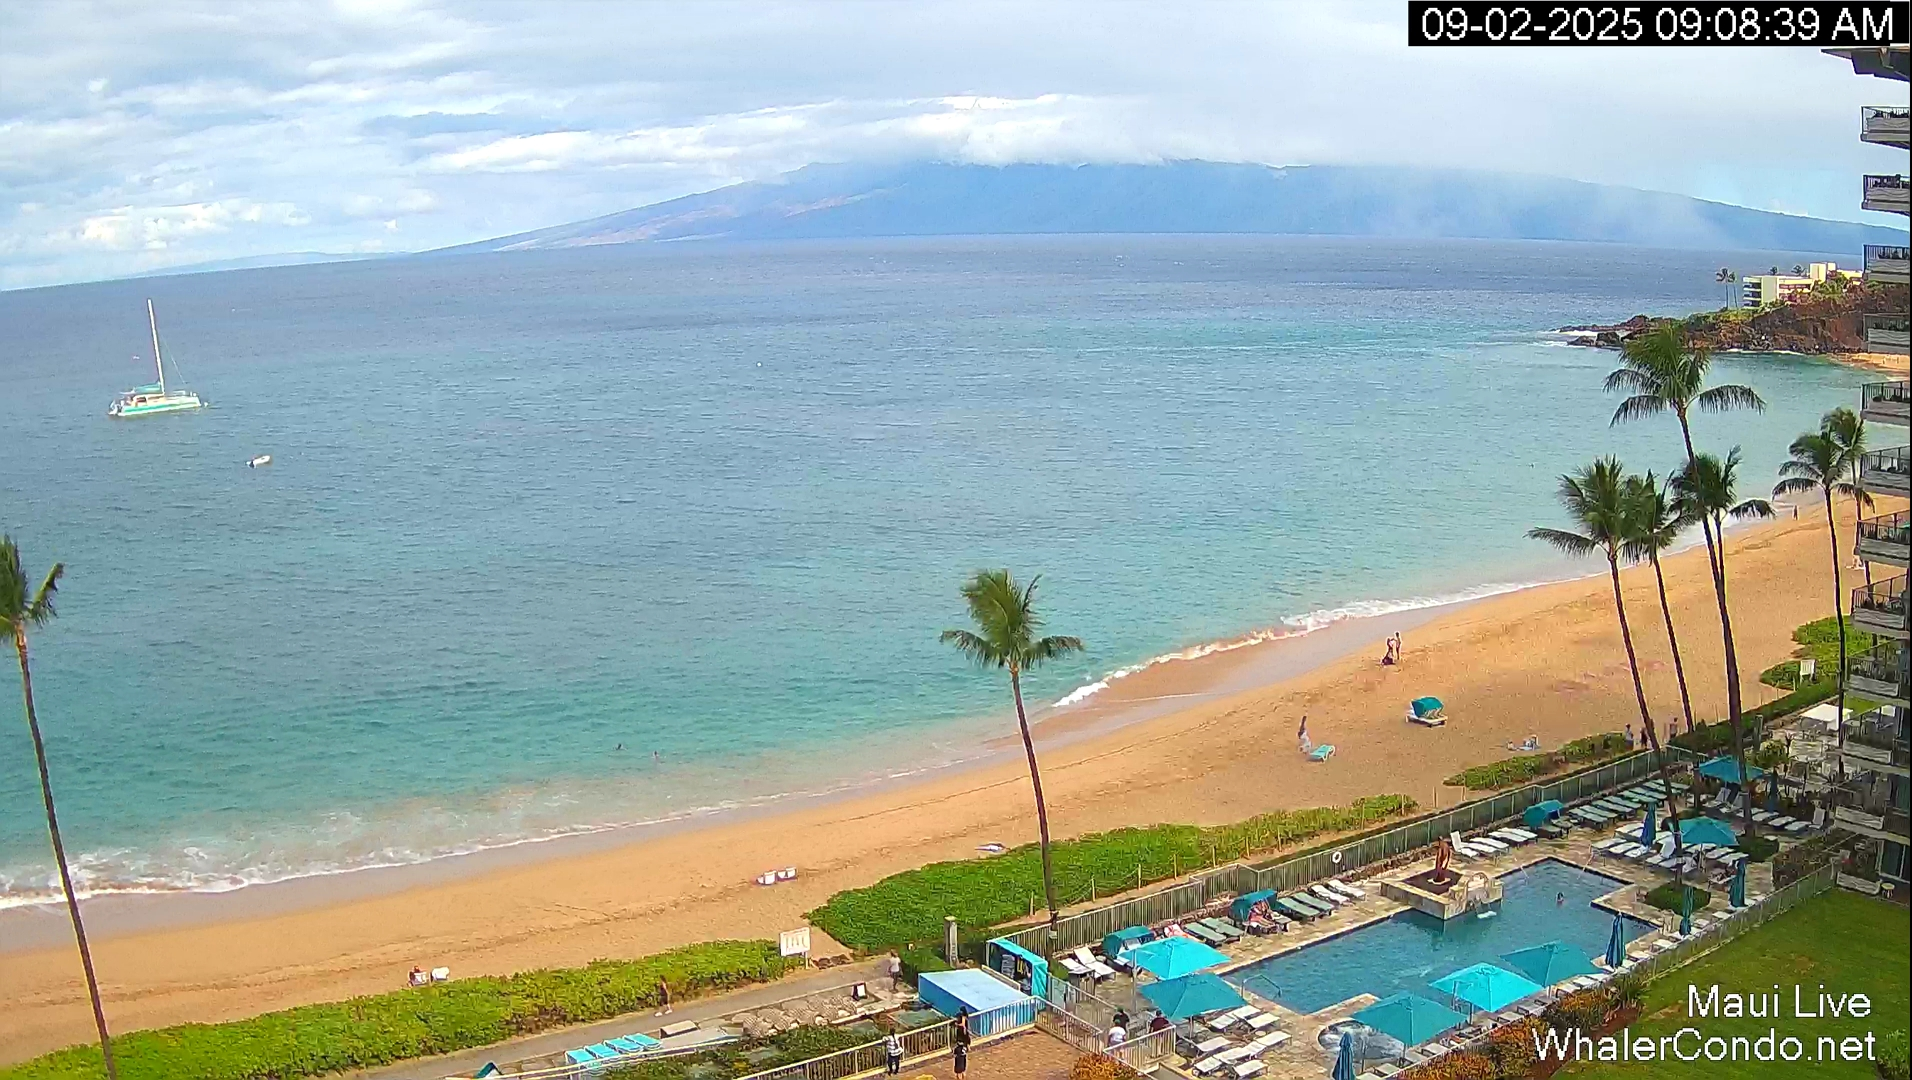boat: (107, 297, 202, 417), (470, 1031, 640, 1080), (1101, 925, 1152, 973)
person: (882, 1027, 903, 1075), (955, 1006, 972, 1050), (657, 975, 673, 1015), (952, 1040, 968, 1079), (888, 951, 902, 992), (1107, 1021, 1127, 1047), (1149, 1010, 1170, 1034), (1113, 1006, 1130, 1034), (1556, 1015, 1567, 1051), (408, 965, 426, 987), (1623, 723, 1634, 751), (1393, 631, 1402, 661), (1386, 637, 1395, 660), (1640, 727, 1648, 750), (1556, 892, 1564, 903)
